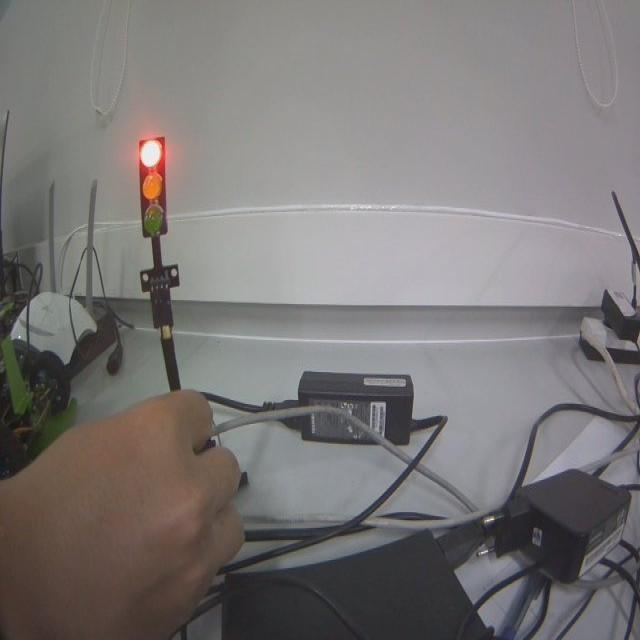Lampu Merah: (136, 130, 168, 238)
